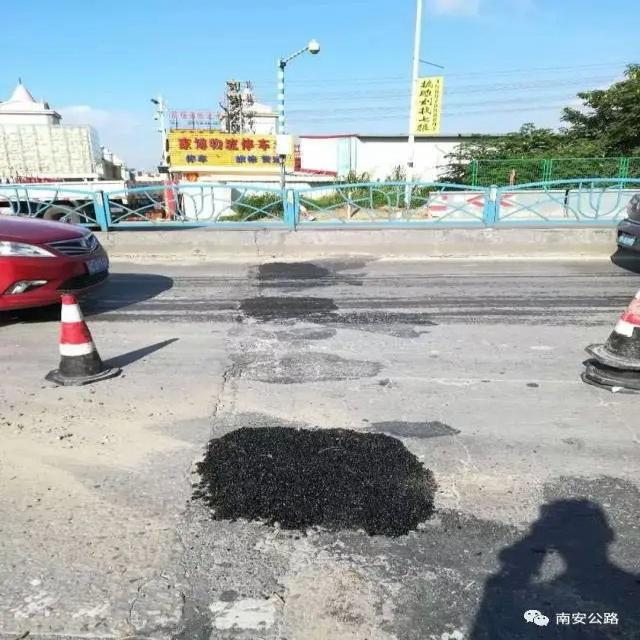Pothole: (190, 424, 448, 539), (233, 350, 402, 401), (232, 294, 409, 332), (238, 255, 353, 290)
